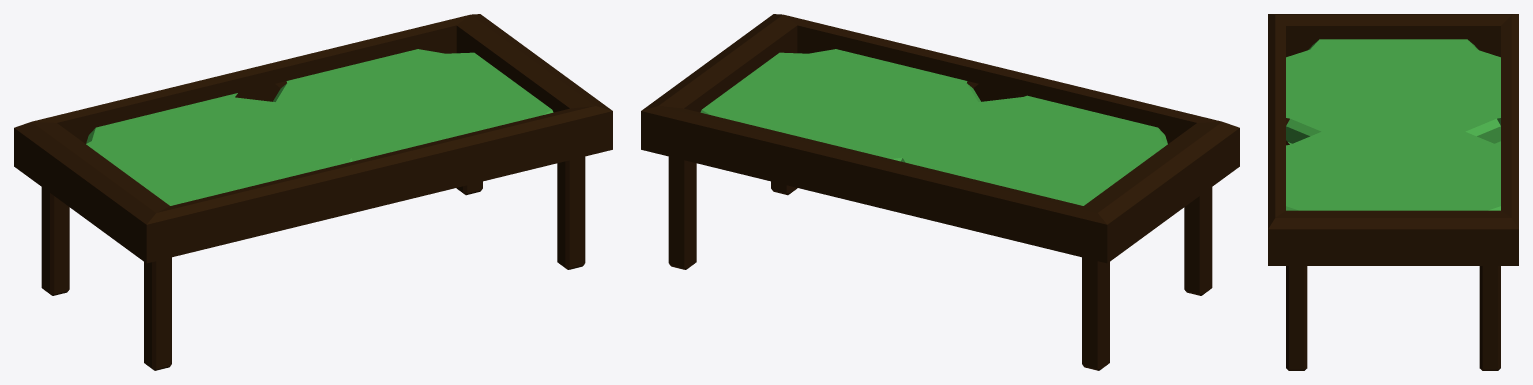
Rendered from pool.fbx.
3 renders of one model, left to right at view 1: azimuth 30°, elevation 25°; view 2: azimuth 150°, elevation 25°; view 3: azimuth 270°, elevation 25°, orthographic. The views are drawn at different scales.
Parts seen in each view (by area): view 1: Cube, Cube.001; view 2: Cube, Cube.001; view 3: Cube.001, Cube.
Boxes of the visible parts, x1,y1,x2,y2 form: Cube: (14, 14, 612, 370); Cube.001: (86, 49, 553, 205); Cube: (641, 14, 1239, 370); Cube.001: (700, 49, 1167, 205); Cube.001: (1286, 39, 1500, 210); Cube: (1268, 14, 1518, 370).
Size of the model in its own units: 474 by 160 by 233.
